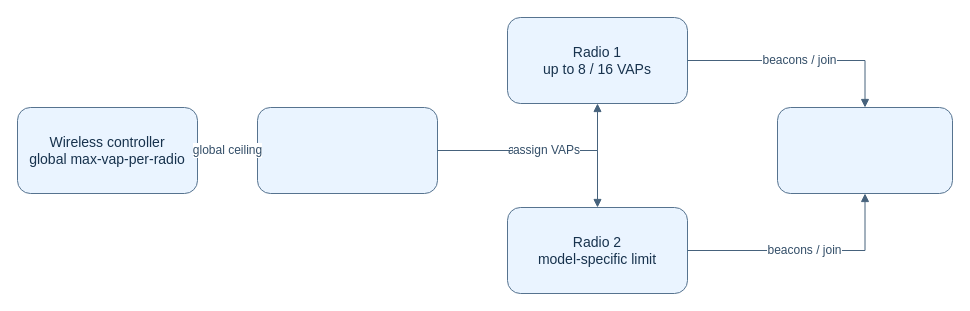
Some shapes in this 970 by 311 pixel diagram are drawn without their labels. The box of each missing label's shape, as (x1, y1, x2, y2) in pixels:
Stations SSID association: (776, 106, 952, 194)
WTP profile radio VAP assignments: (256, 106, 438, 194)
